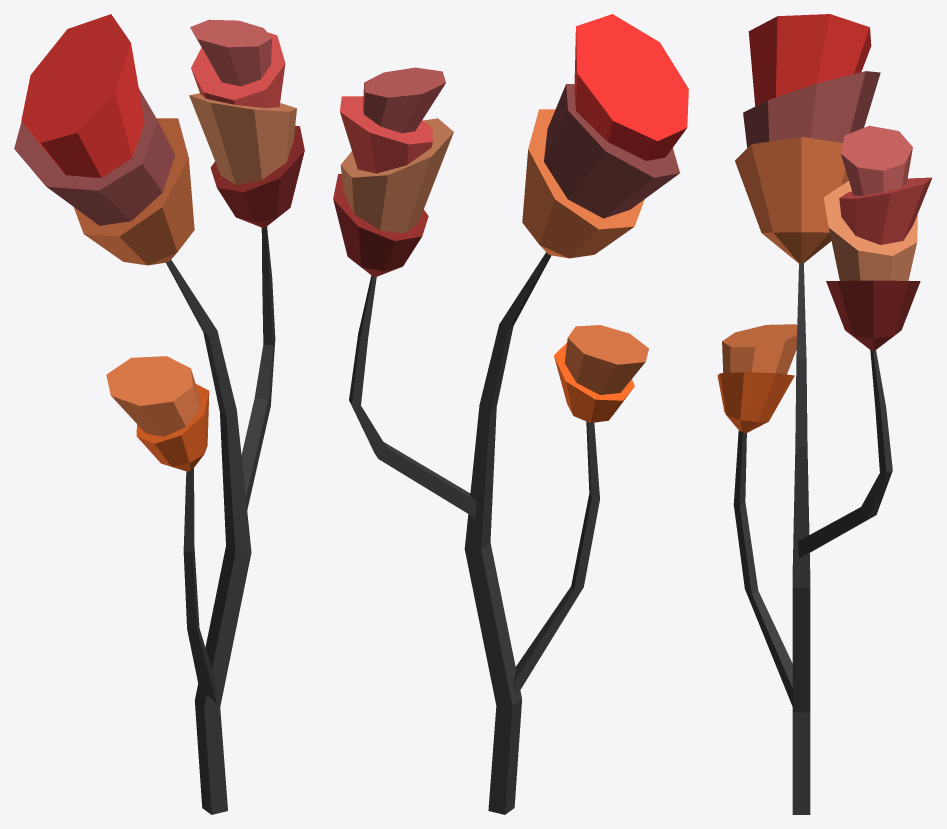
File: RAS_Plant06.fbx
The picture shows the model from 3 angles, left to right: view 1: azimuth 30°, elevation 25°; view 2: azimuth 150°, elevation 25°; view 3: azimuth 270°, elevation 25°; orthographic projection. The views are drawn at different scales.
Visible parts, largest first — view 1: RAS_Plant06; view 2: RAS_Plant06; view 3: RAS_Plant06.
Part boxes in pixels (bbox=[...]): RAS_Plant06: bbox=[14, 14, 304, 814]; RAS_Plant06: bbox=[333, 14, 688, 814]; RAS_Plant06: bbox=[717, 14, 931, 814].
Bounding box in the file's own units: 29.51 × 75.23 × 19.38.
1 material, 1 textured.
